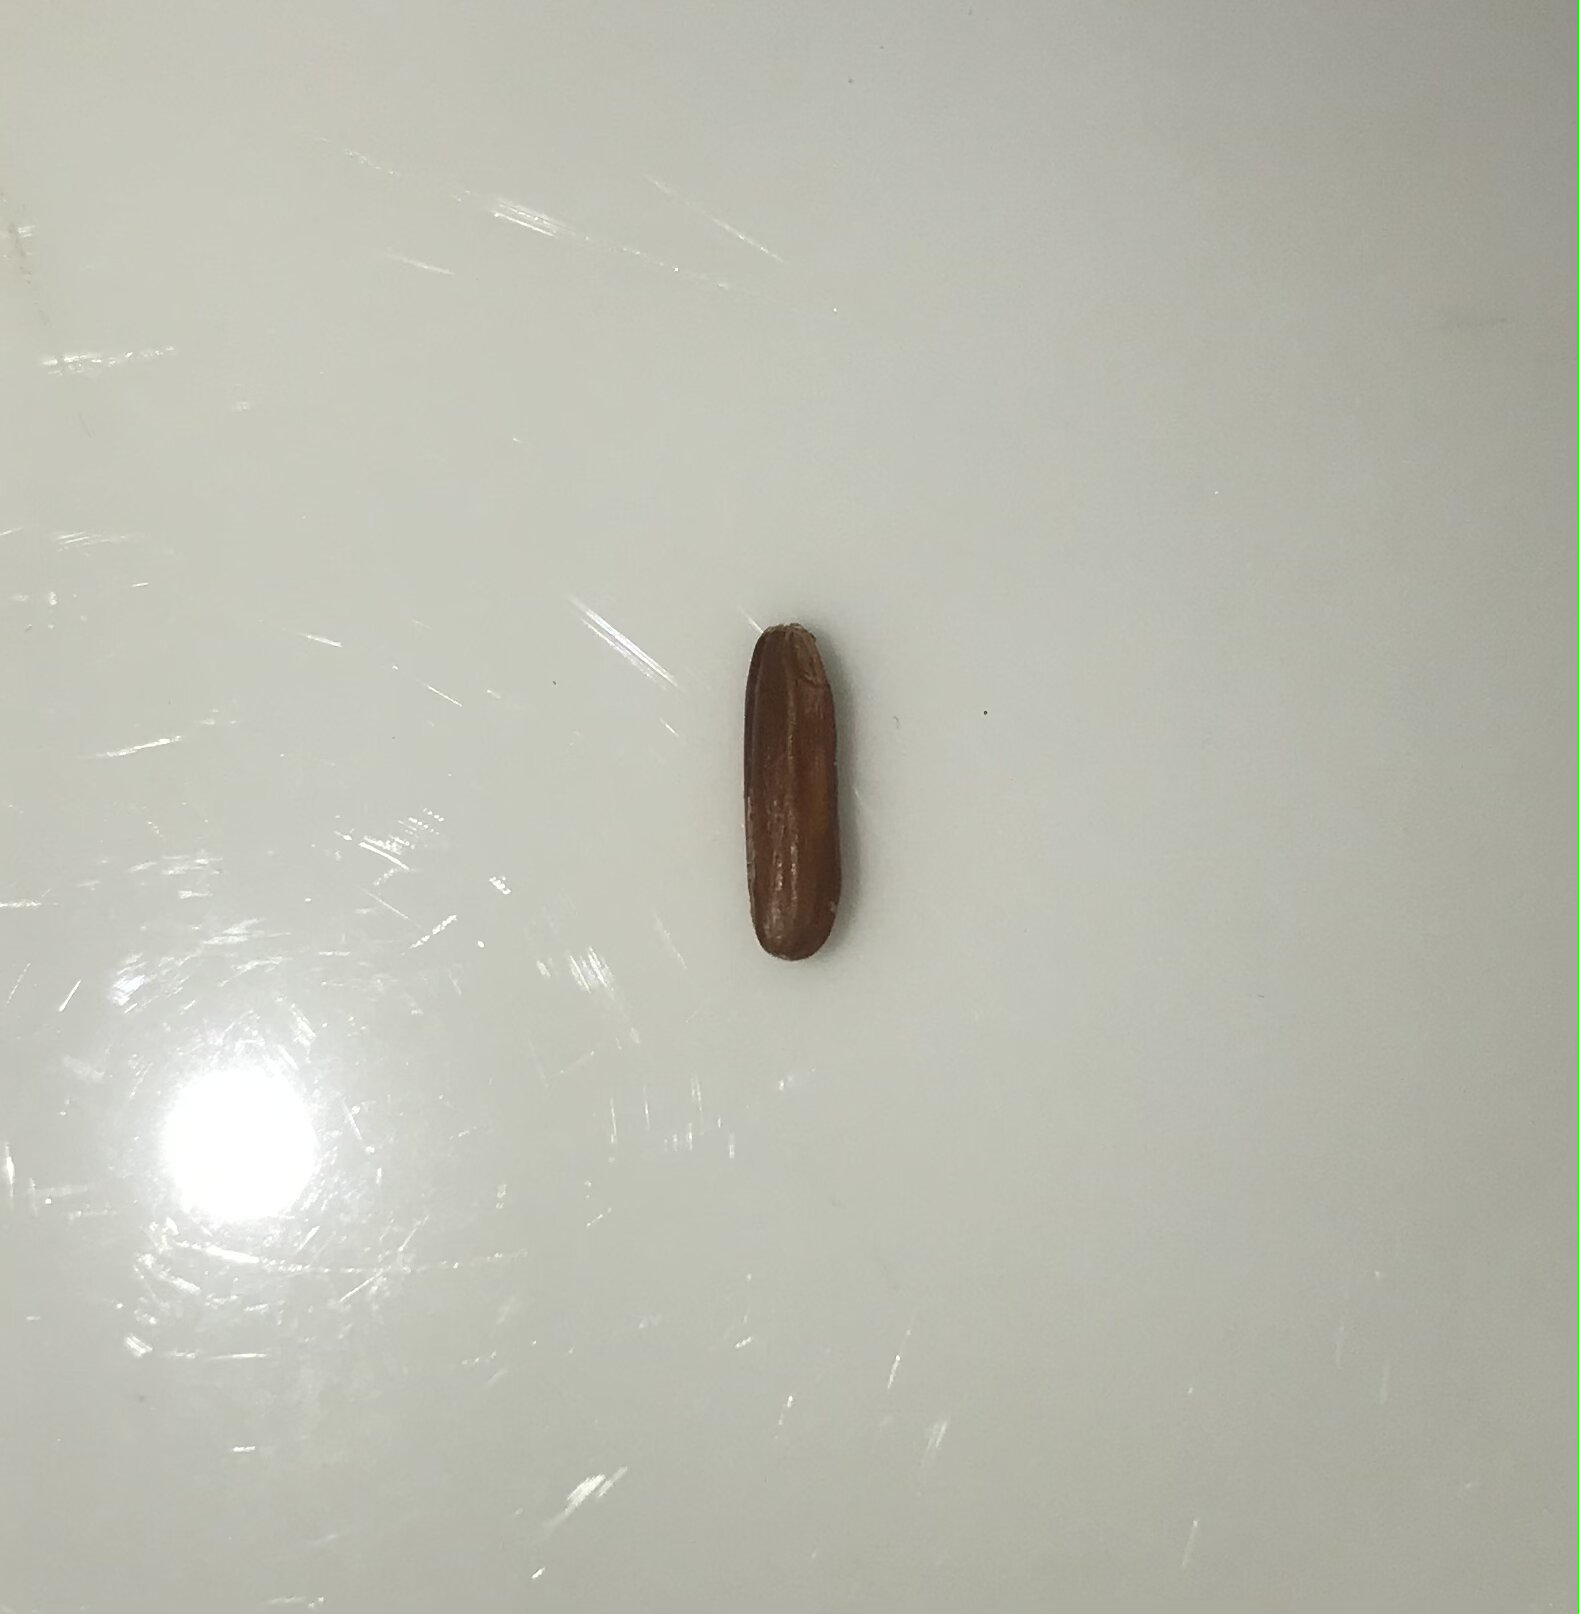Gao Huyet Rong: (722, 615, 872, 965)
